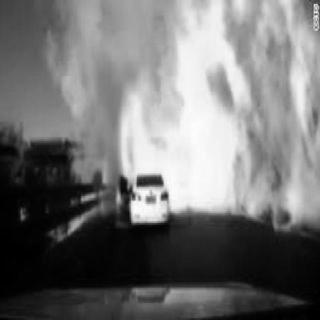Fire: (61, 0, 317, 234)
